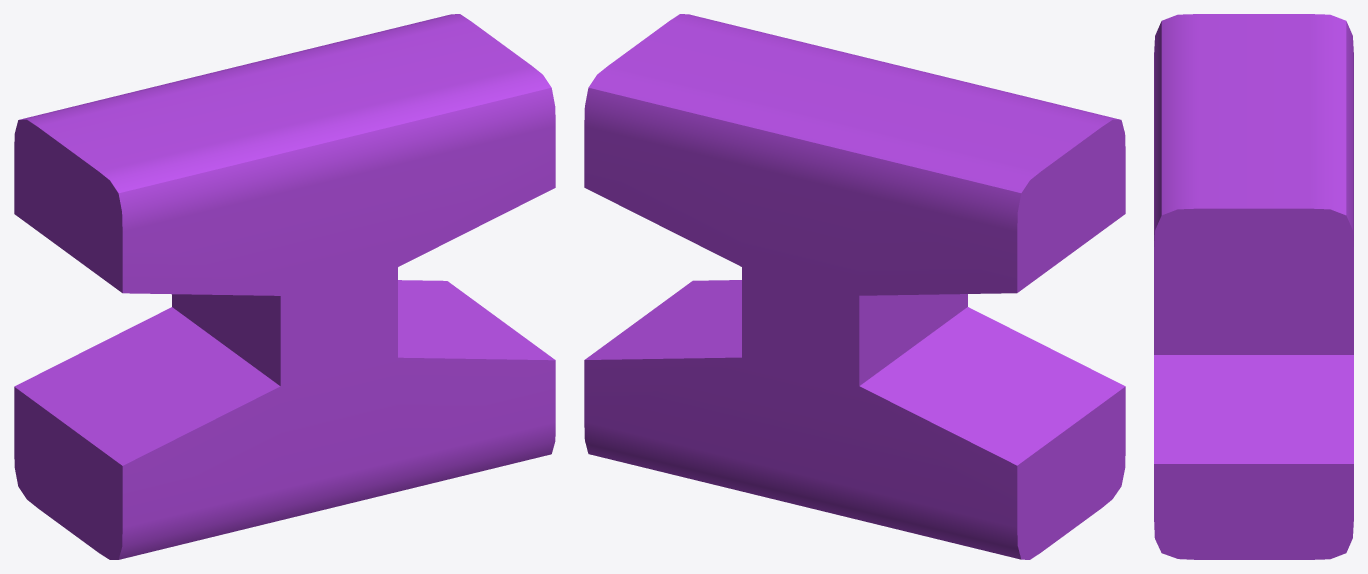
File: Rallings_Connector_B.FBX
The picture shows the model from 3 angles, left to right: view 1: azimuth 30°, elevation 25°; view 2: azimuth 150°, elevation 25°; view 3: azimuth 270°, elevation 25°; orthographic projection. The views are drawn at different scales.
Visible parts, largest first — view 1: Rallings_Connector_B; view 2: Rallings_Connector_B; view 3: Rallings_Connector_B.
Boxes of the visible parts, <box> form: Rallings_Connector_B: <box>14,14,555,559</box>; Rallings_Connector_B: <box>584,14,1125,559</box>; Rallings_Connector_B: <box>1154,14,1353,559</box>.
Bounding box in the file's own units: 36.89 × 31.04 × 16.
